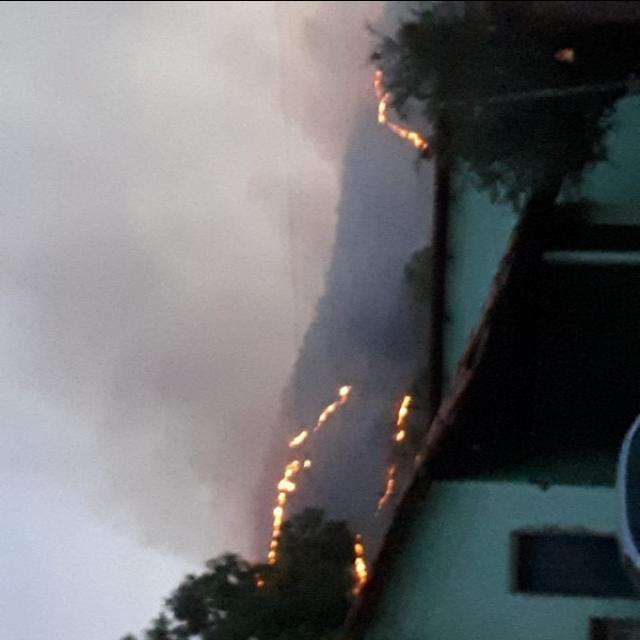Fire: (250, 378, 358, 564), (367, 392, 422, 514), (366, 64, 438, 154), (335, 518, 381, 600)
